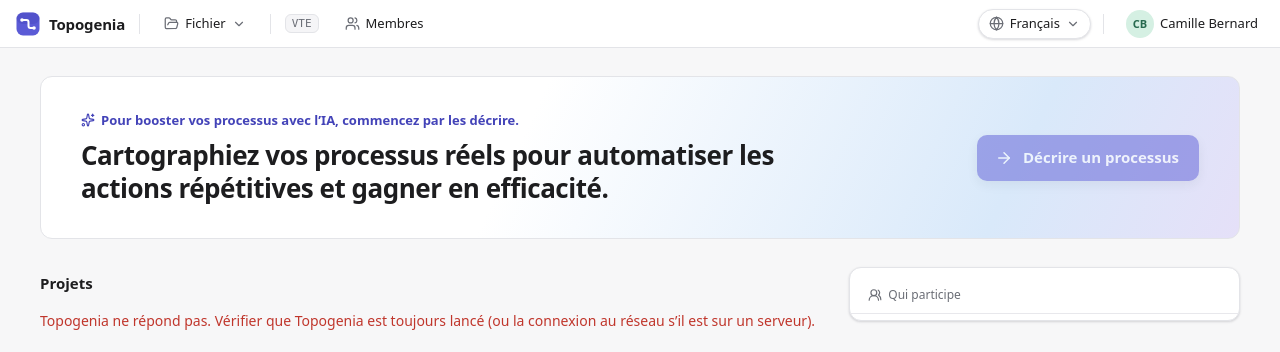
Test case: the languages in the header (ADR 083) › the language of the process: the one of origin, those translated with how far, the others; one chosen is kept for the project (ADR 083)
The image size is (1280, 352).
Check: the header with test id "app-header" is shown, box [0,0,1279,48]
Click the button with test id "process-language" showing "Français" at (1034, 24), box [978,8,1091,38]
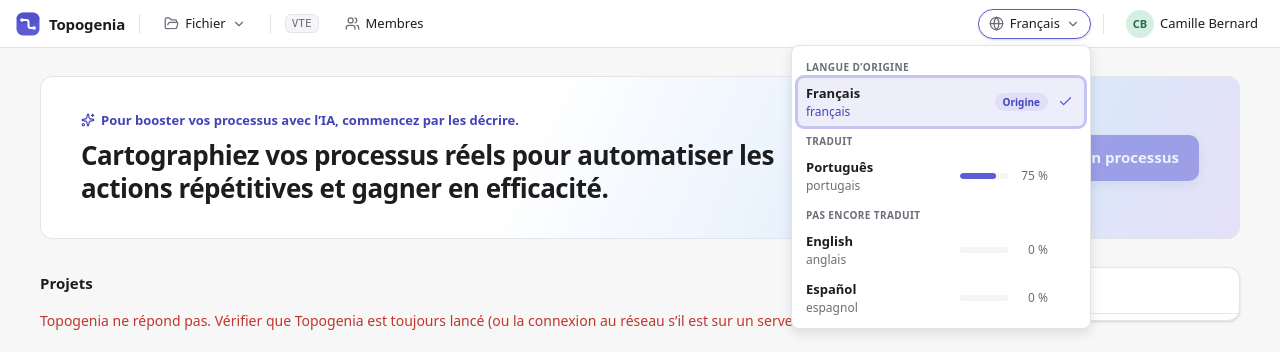
Check: the option with test id "process-language-pt" reads "Português portugais 75 %"
Click the option with test id "process-language-pt" at (840, 166), box [806,158,1048,194]
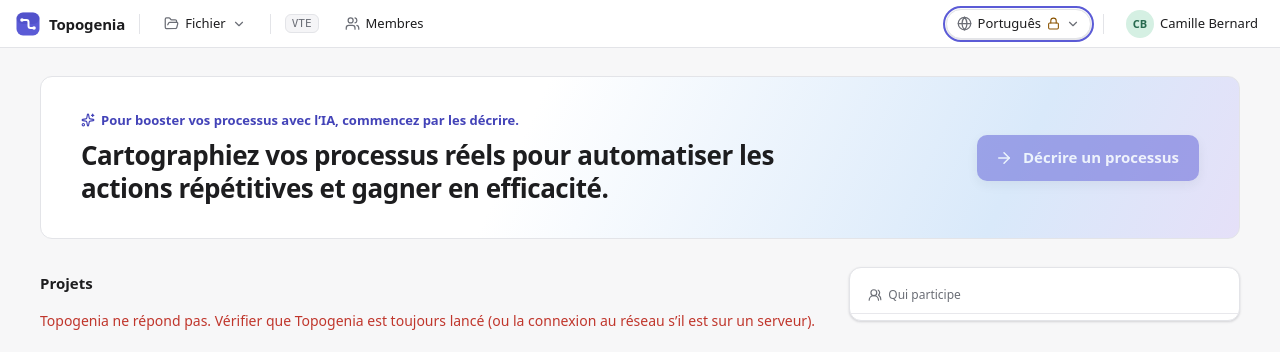
Check: the list is gone
Check: the button with test id "process-language" reads "Português", box [946,8,1091,38]
